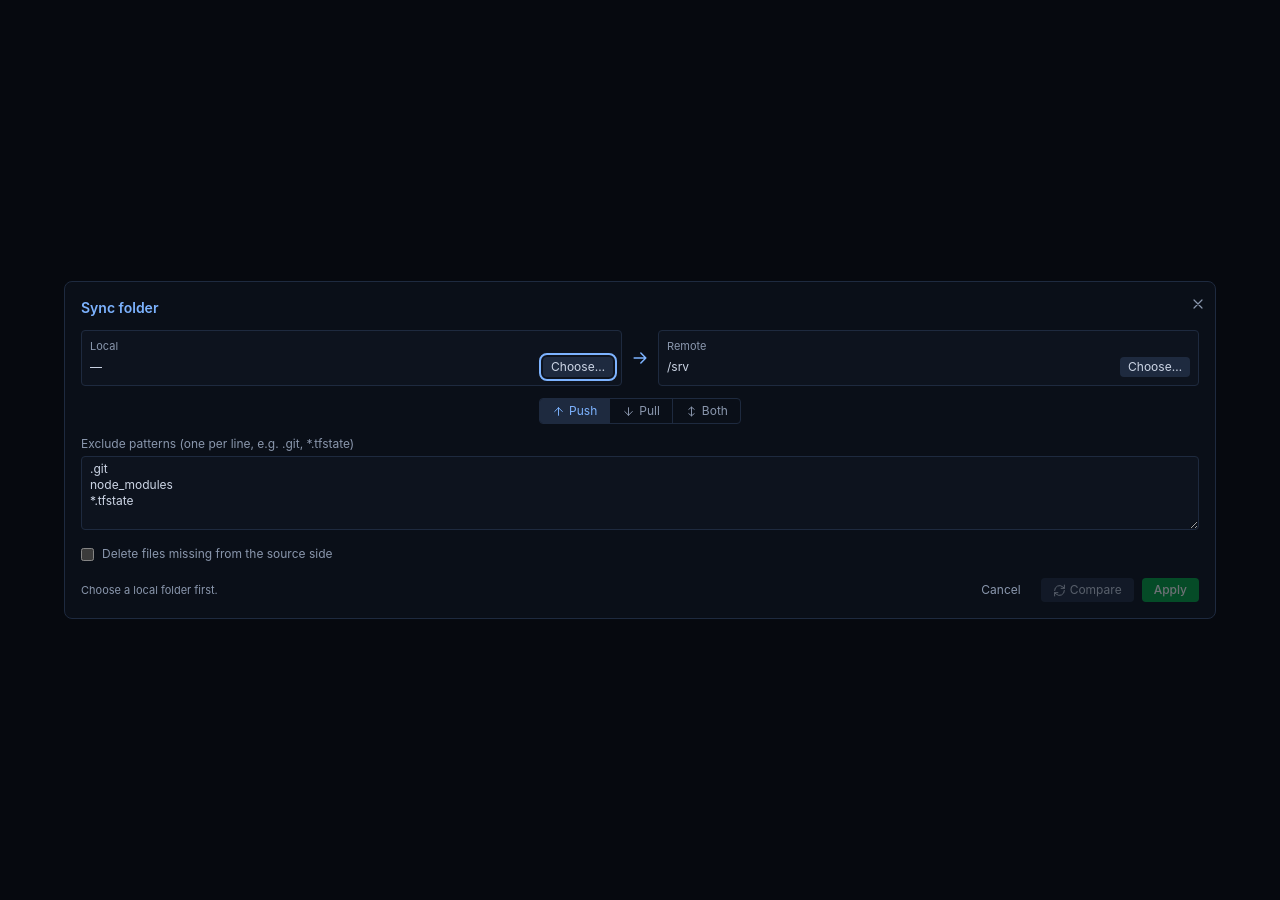
Scenario: SyncModal › Escape backs out of the folder picker, not the sync dialog
The image size is (1280, 900).
Click the button with aria-label "Choose remote folder".
click(1155, 367)  # box [1120,357,1190,377]
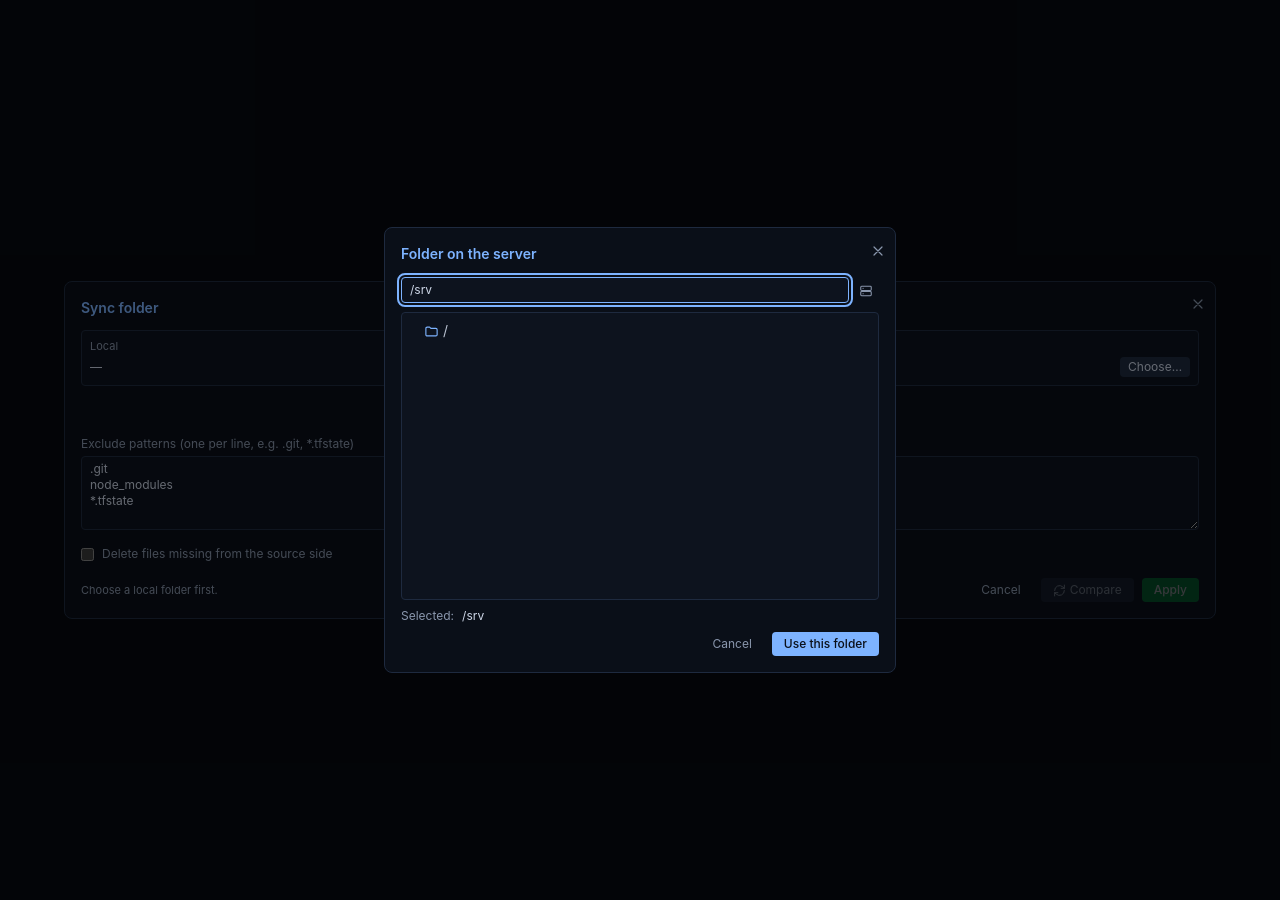
Result: the element with test id "sync-remote-picker" is shown at [401,276,879,656]
Press Escape
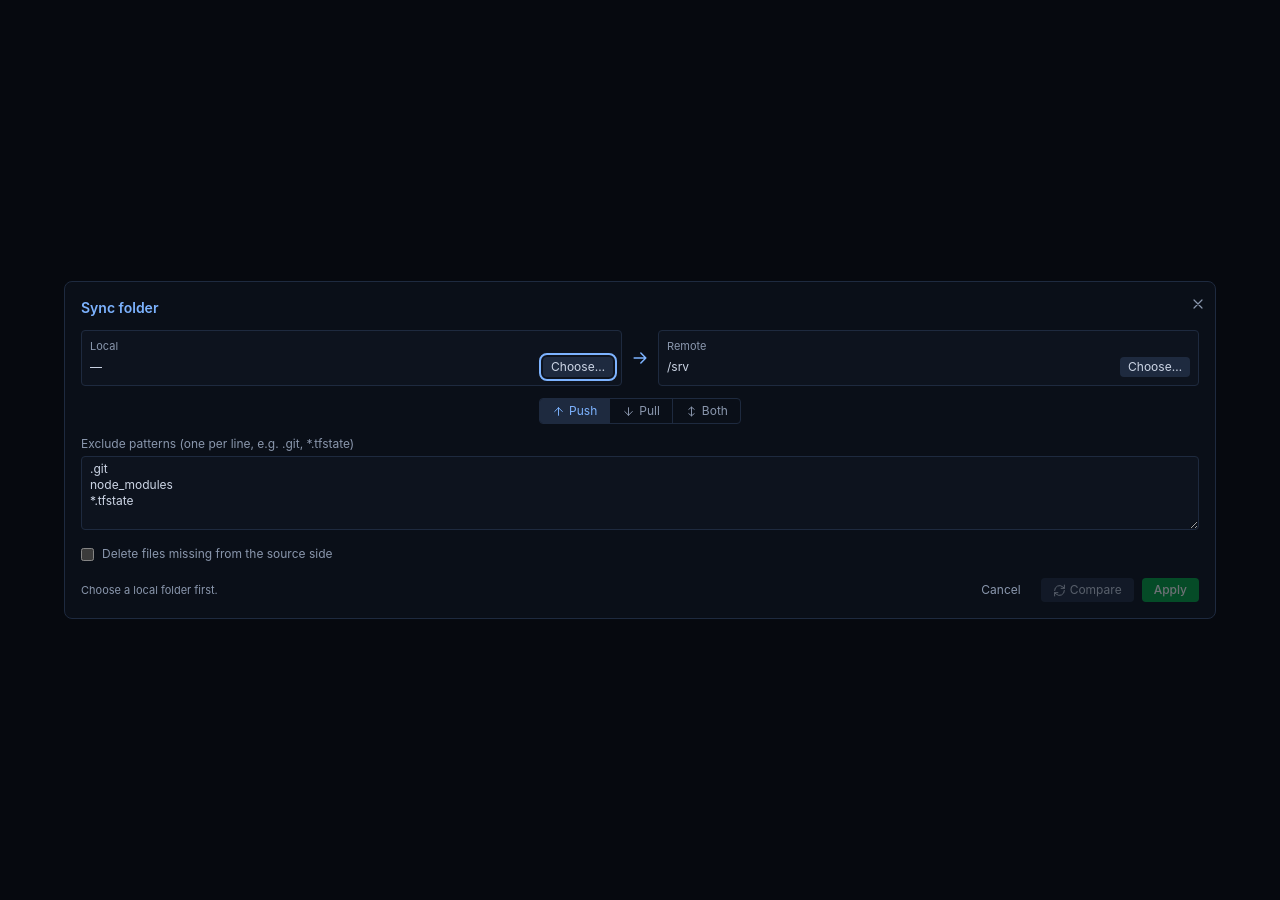
Result: the element with test id "sync-remote-picker" is gone
